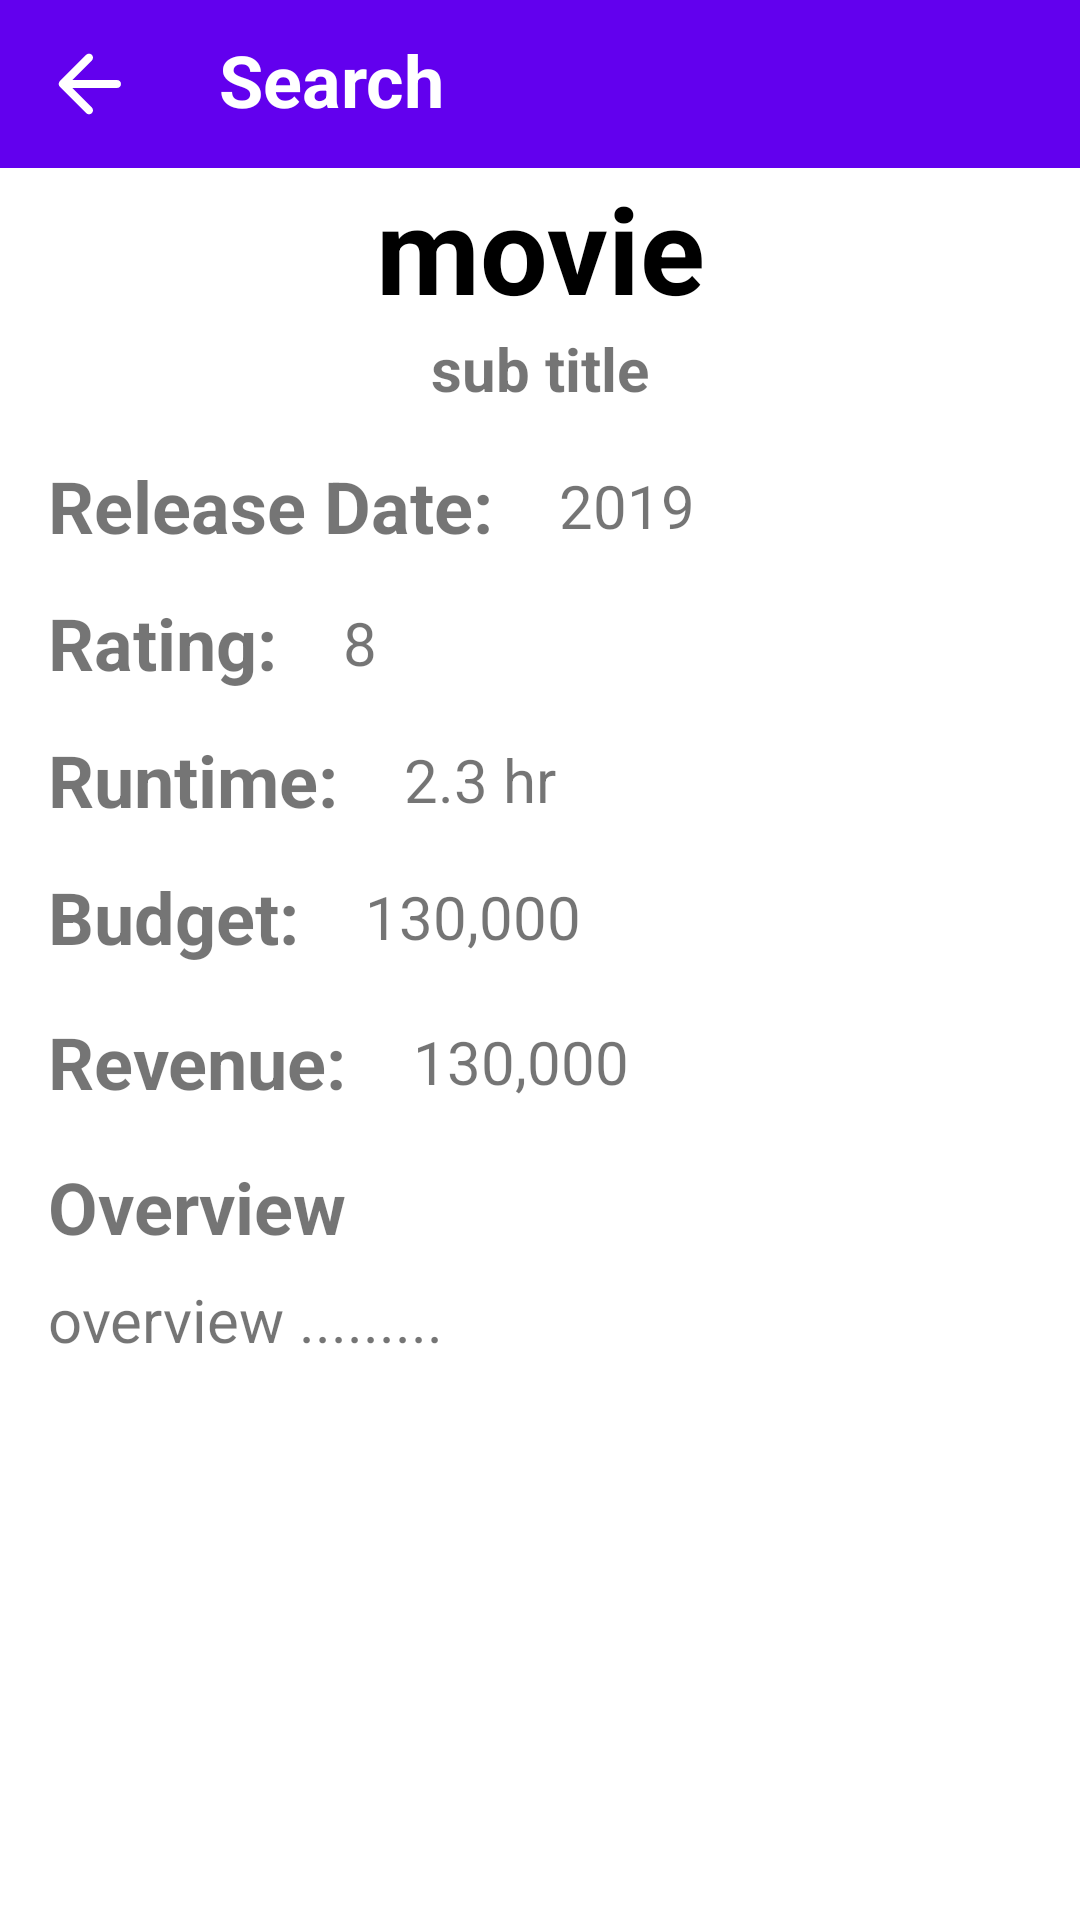

Named icons in this screenshot (1080 × 1920) and their bounding boxes, box(x1, y1, x2, y2):
back: box(58, 53, 121, 115)
